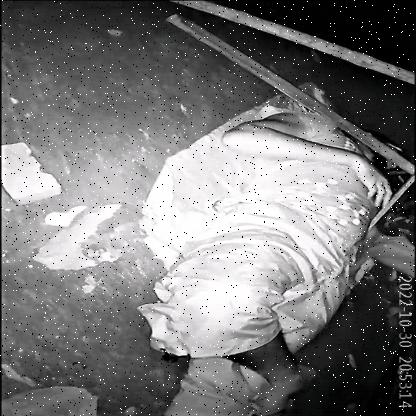hand: (217, 114, 416, 206)
leg: (188, 303, 320, 416)
